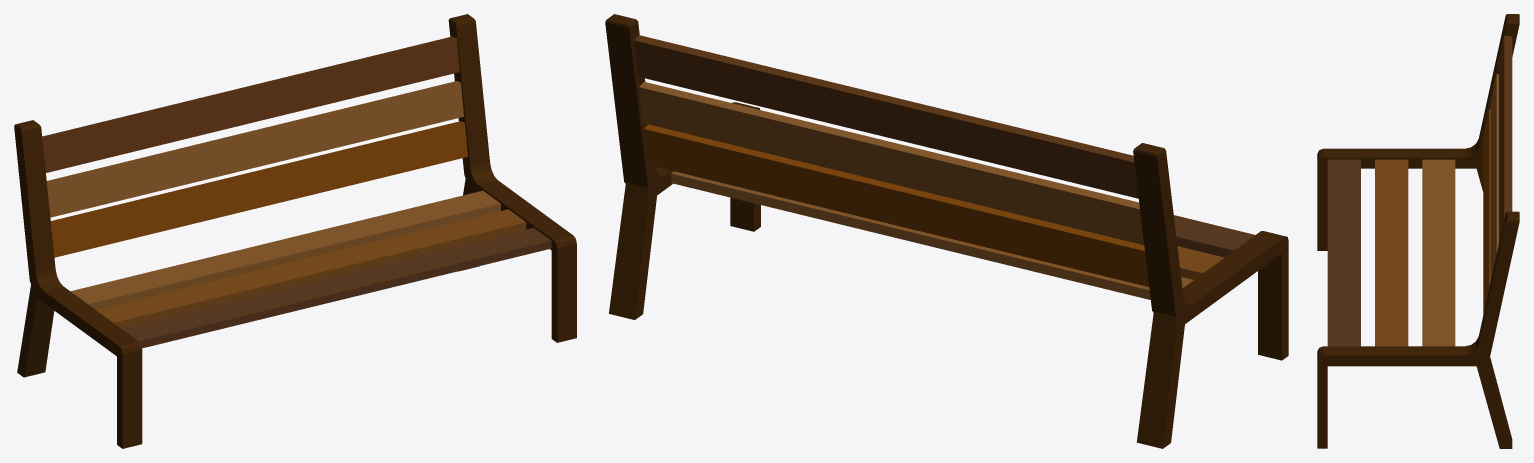
File: bench.glb
3 views of the same model, side by side, from view 1: azimuth 30°, elevation 25°; view 2: azimuth 150°, elevation 25°; view 3: azimuth 270°, elevation 25° (orthographic). The views are drawn at different scales.
Visible parts, largest first — view 1: Object_189; view 2: Object_189; view 3: Object_189.
Part boxes in pixels (x1,y1,x2,y2): Object_189: [14, 14, 576, 448]; Object_189: [605, 14, 1288, 448]; Object_189: [1317, 14, 1519, 448].
Size of the model in its own units: 2.66 by 1.37 by 1.09.
1 material, 1 textured.
